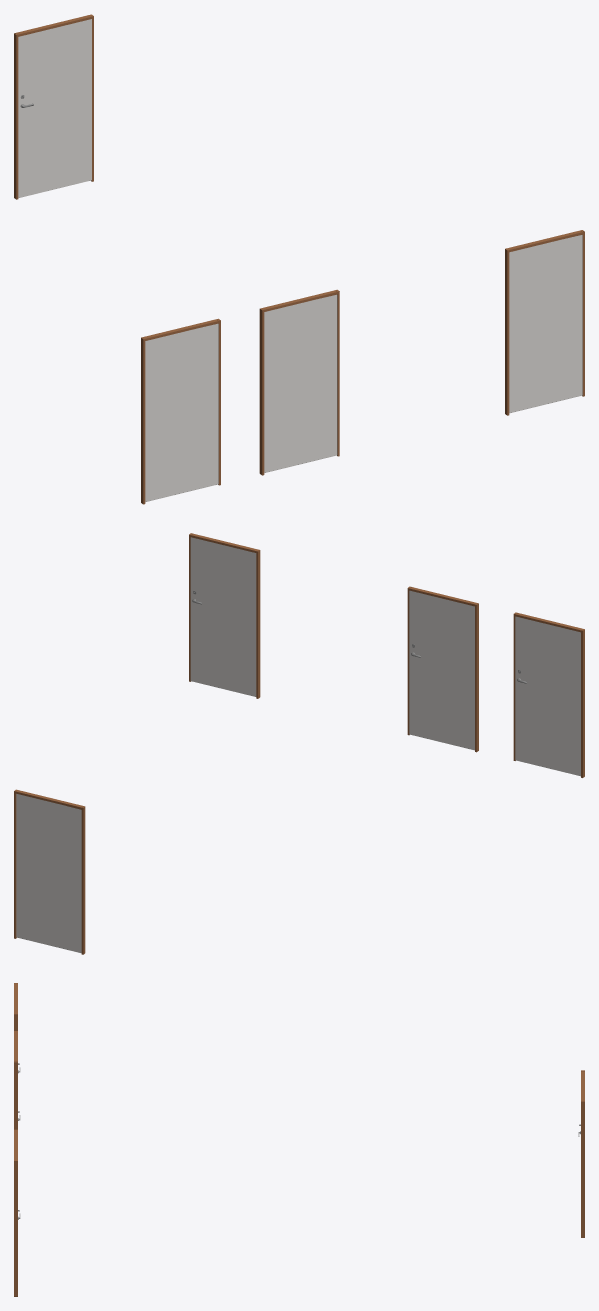
File: Whitedoor.fbx
3 views of the same model, one above another, from view 1: azimuth 30°, elevation 25°; view 2: azimuth 150°, elevation 25°; view 3: azimuth 270°, elevation 25° (orthographic). The views are drawn at different scales.
Visible parts, largest first — view 1: Cube.015, Cube.018, Cube.012, Cube.017; view 2: Cube.015, Cube.012, Cube.017, Cube.018; view 3: Cube.012, Cube.018, Cube.015.
Part boxes in pixels (x1=…): Cube.015: x1=259, y1=289, x2=339, y2=475; Cube.018: x1=14, y1=14, x2=93, y2=199; Cube.012: x1=505, y1=230, x2=584, y2=415; Cube.017: x1=141, y1=318, x2=220, y2=504; Cube.015: x1=407, y1=586, x2=478, y2=752; Cube.012: x1=189, y1=533, x2=260, y2=698; Cube.017: x1=513, y1=612, x2=584, y2=777; Cube.018: x1=14, y1=789, x2=85, y2=954; Cube.012: x1=14, y1=1129, x2=20, y2=1296; Cube.018: x1=578, y1=1070, x2=584, y2=1237; Cube.015: x1=14, y1=1031, x2=20, y2=1129.
Bounding box in the file's own units: 5.94 × 8.06 × 2.13.
Materials: 1 (1 with a texture image).
